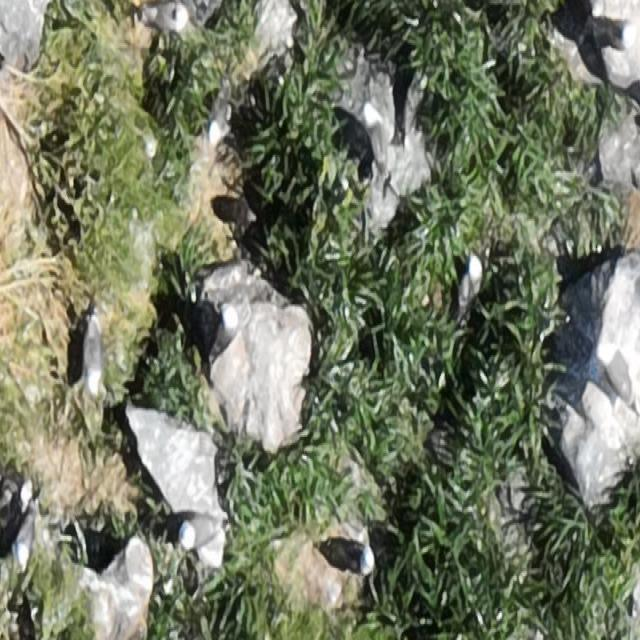umineko: (596, 340, 636, 413), (362, 103, 389, 180), (176, 510, 226, 550), (459, 252, 483, 320), (210, 306, 237, 363), (209, 89, 235, 144), (84, 322, 103, 396), (592, 21, 635, 52), (18, 497, 36, 571), (149, 3, 187, 33), (360, 544, 374, 577)
